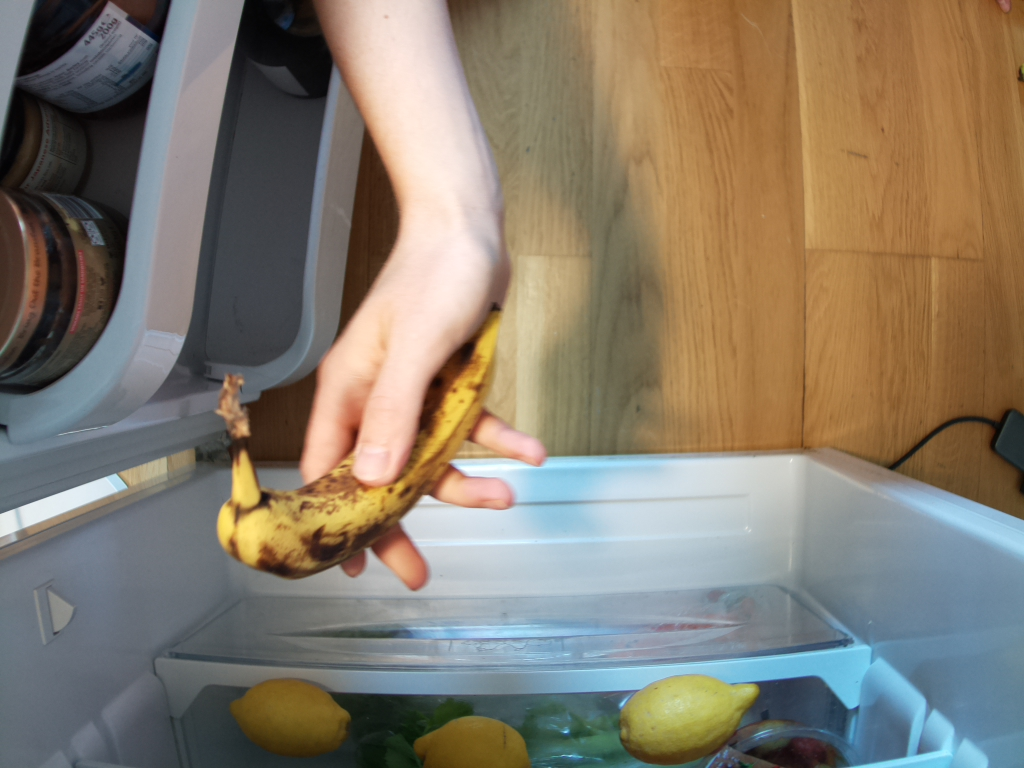banana-overripe: (217, 291, 505, 580)
